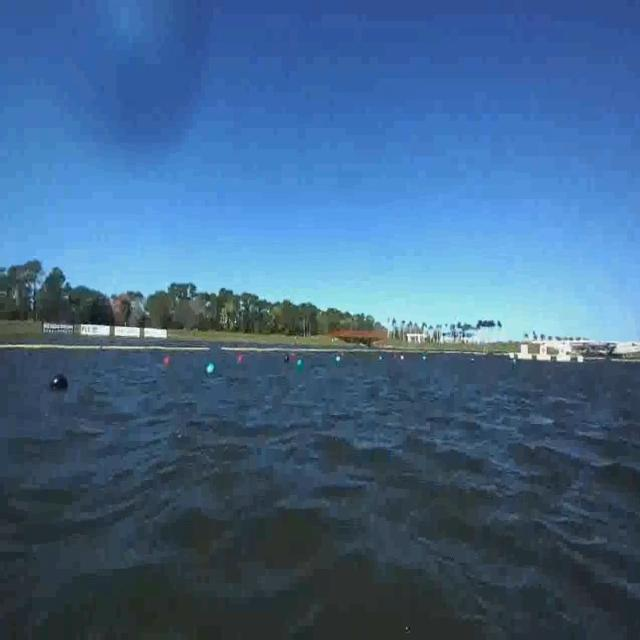black-buoy: (51, 375, 70, 392)
green-buoy: (207, 361, 216, 374), (296, 358, 303, 370)
red-buoy: (163, 356, 169, 367)
